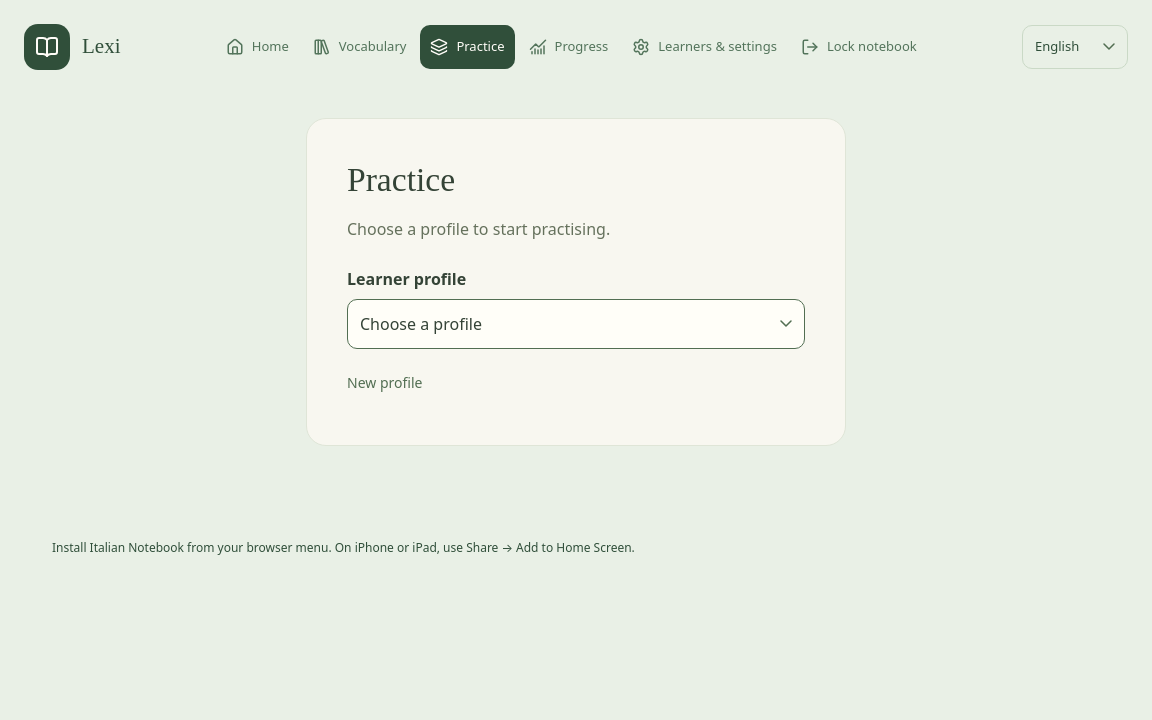
Test: zero matches remain in setup with an explanation
Select "Foteini" in the dropdown labelled "Learner profile" at (576, 324), box [347, 299, 805, 349]
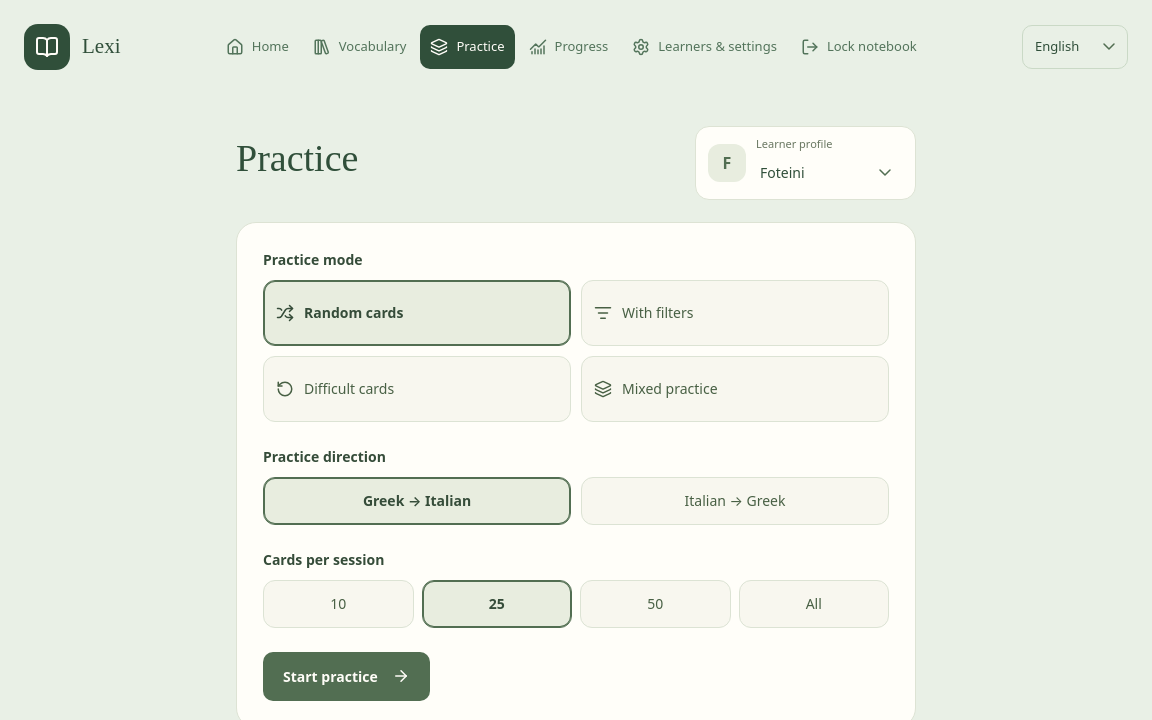
Click the radio button labelled "All" at (814, 604), box [738, 580, 889, 628]
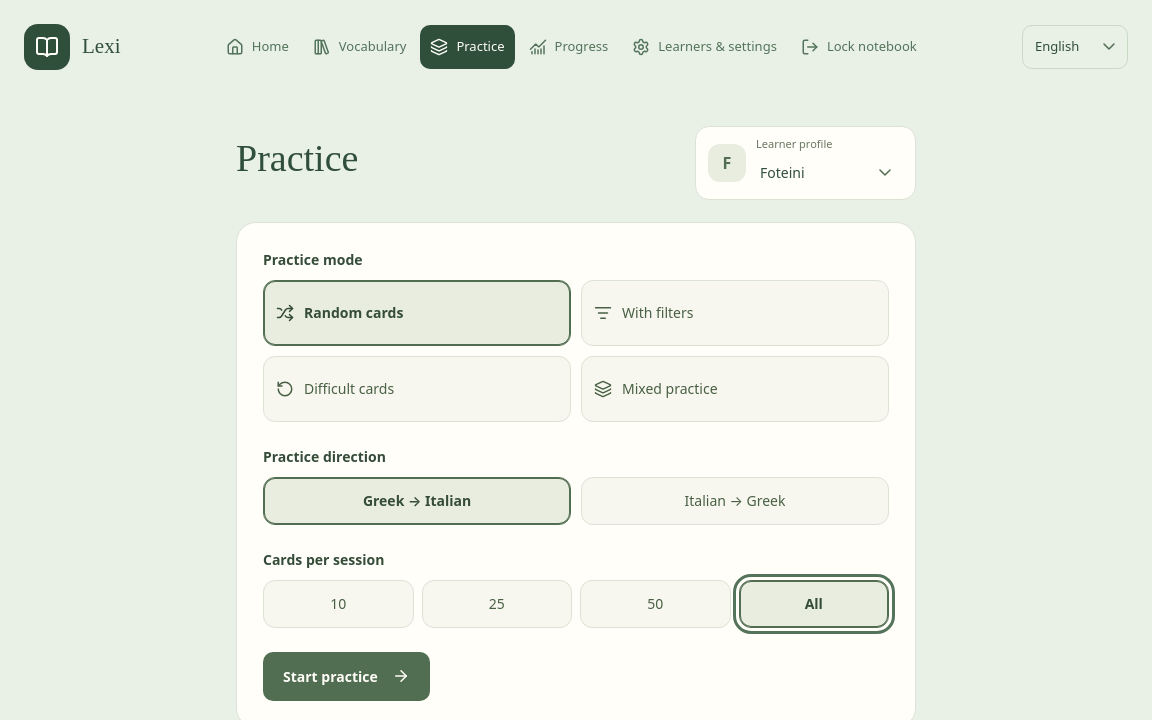
Click the button "Start practice" at (346, 676), box [263, 652, 430, 700]
(page scrolled)
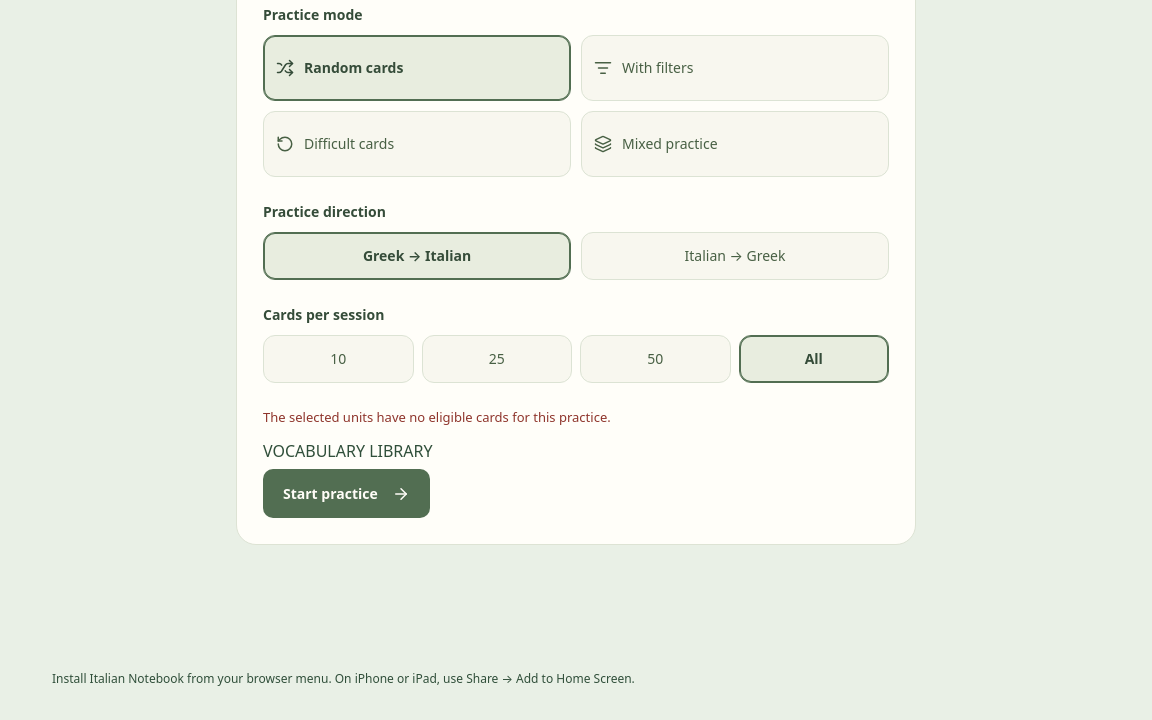
Result: the button "Start practice" is enabled at [263, 469, 430, 518]
Result: the message shows "The selected units have no eligible cards" at [263, 408, 611, 426]
